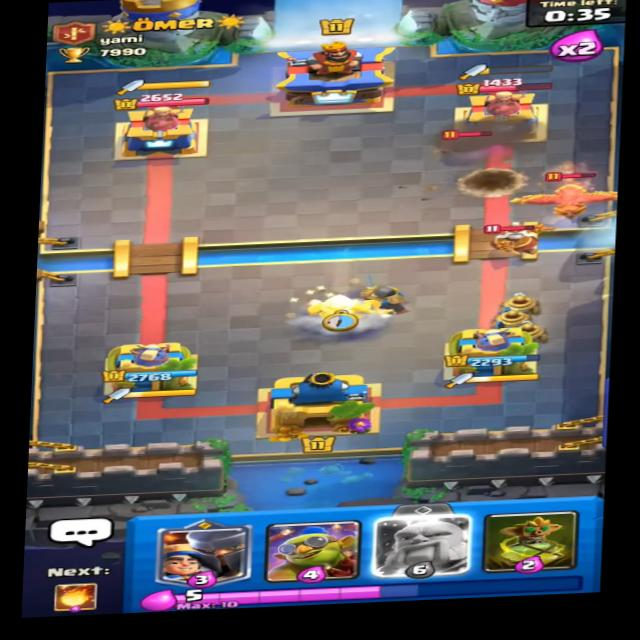Minipekka: (443, 130, 494, 157)
Monk: (480, 218, 558, 255)
Pheonix: (510, 168, 631, 227)
